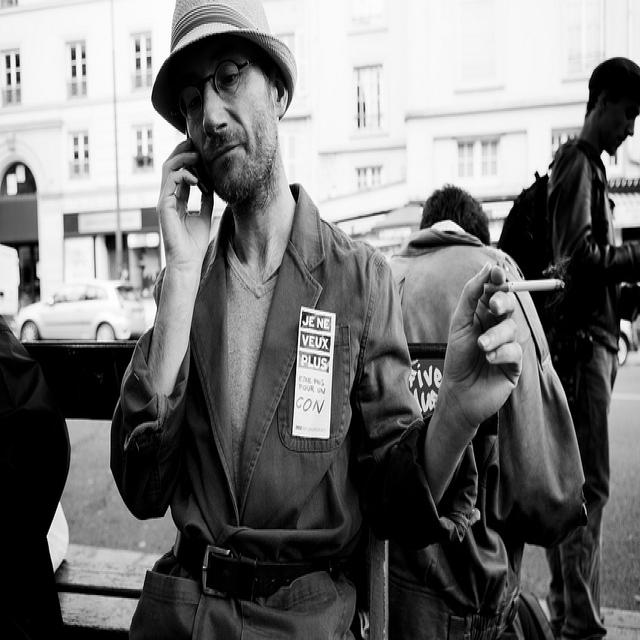Vehicle: (11, 278, 157, 344), (616, 319, 638, 366)
